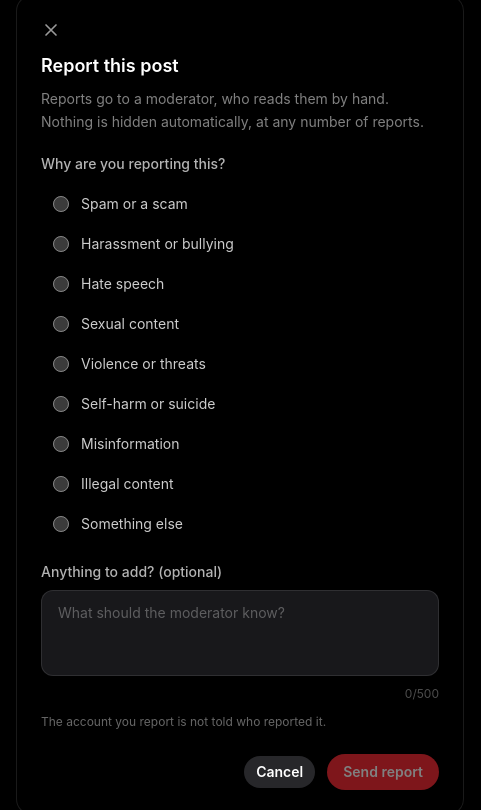
Test: ReportModal › cannot be sent until a reason is picked
Expected: the button "Send report" is disabled, [327,754,439,790]
Click the radio button labelled "Spam or a scam".
click(61, 204)  # box [53,196,69,212]
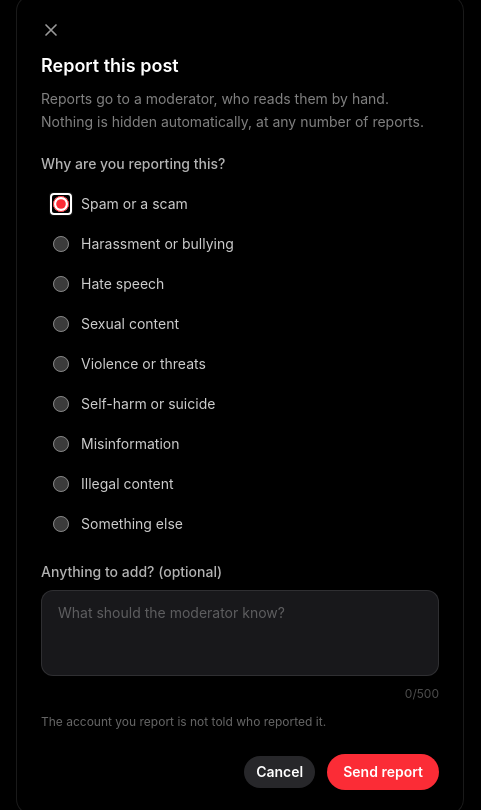
Expected: the button "Send report" is enabled, [327,754,439,790]
